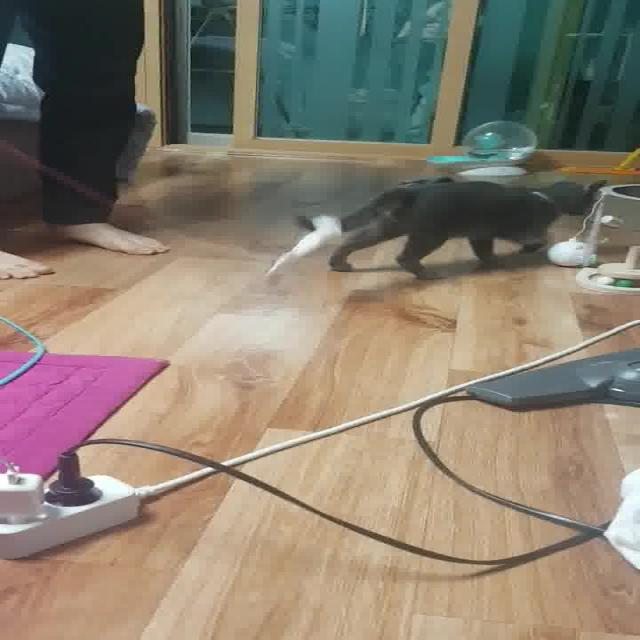cat: (251, 164, 640, 289)
